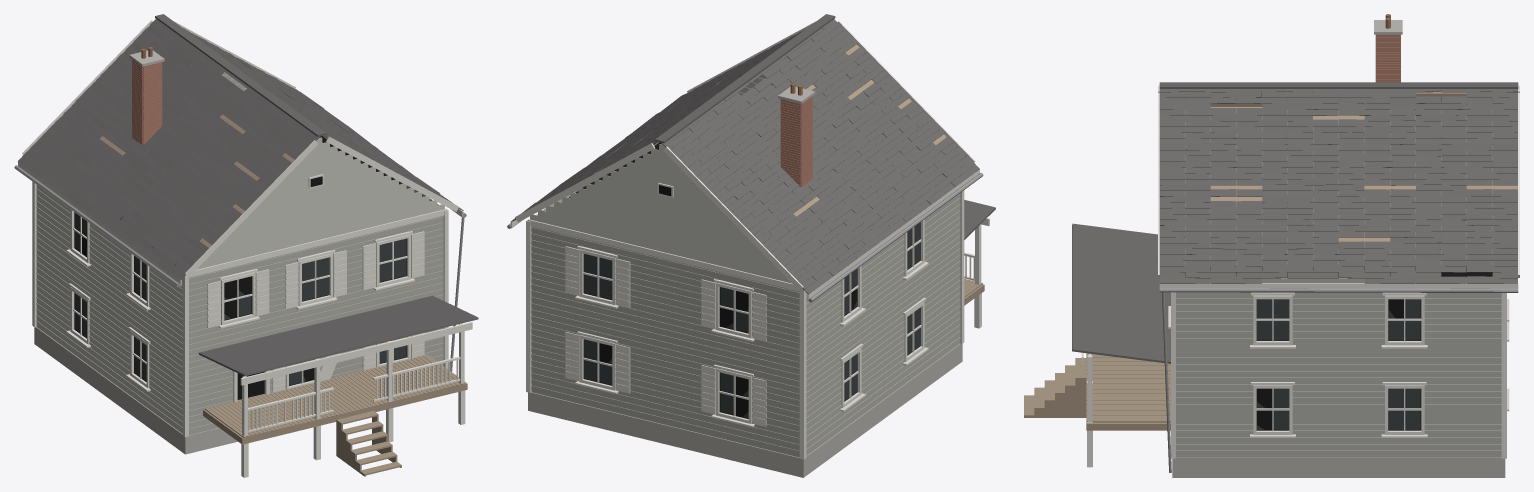
The model's file is house_a.glb.
3 renders of one model, left to right at view 1: azimuth 30°, elevation 25°; view 2: azimuth 150°, elevation 25°; view 3: azimuth 270°, elevation 25°, orthographic. The views are drawn at different scales.
Visible parts, largest first — view 1: House; view 2: House; view 3: House.
Boxes of the visible parts, x1=… form: House: x1=14, y1=14, x2=478, y2=477; House: x1=507, y1=14, x2=995, y2=477; House: x1=1024, y1=14, x2=1519, y2=477.
Bounding box in the file's own units: 10.08 × 10.64 × 13.54.
